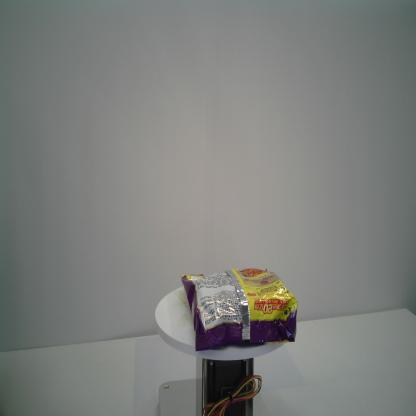Instant Noodles: (178, 267, 300, 354)
